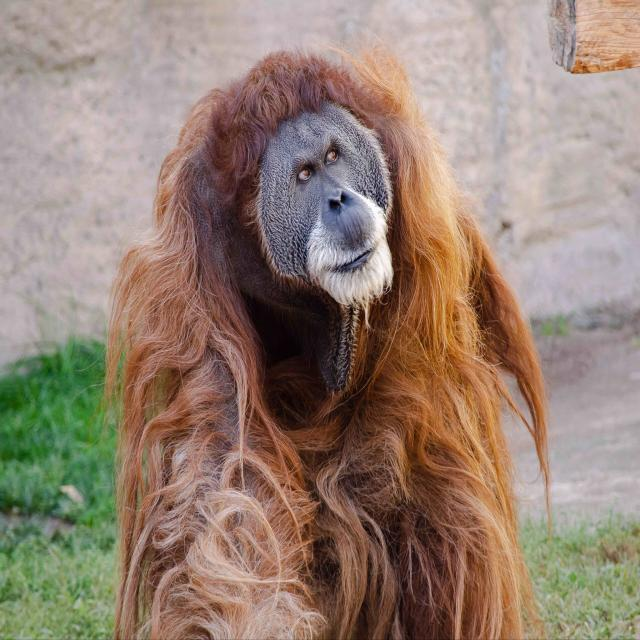Orangutan: (116, 51, 527, 640)
